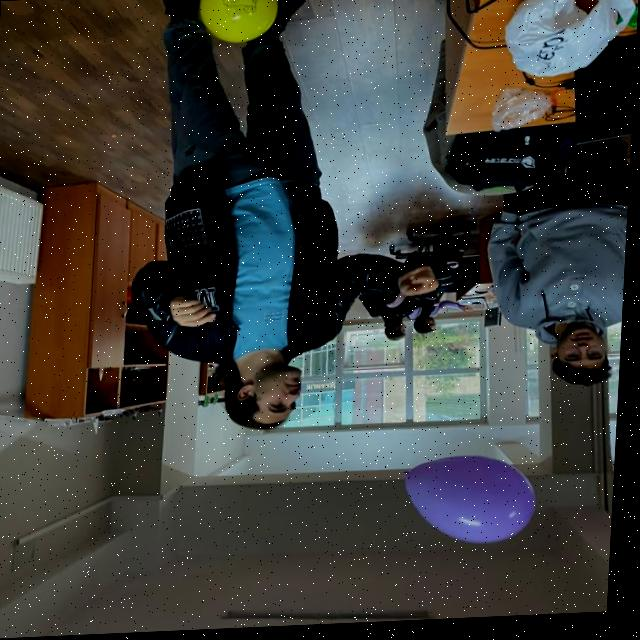balloon: (402, 458, 542, 549), (203, 0, 272, 53)
